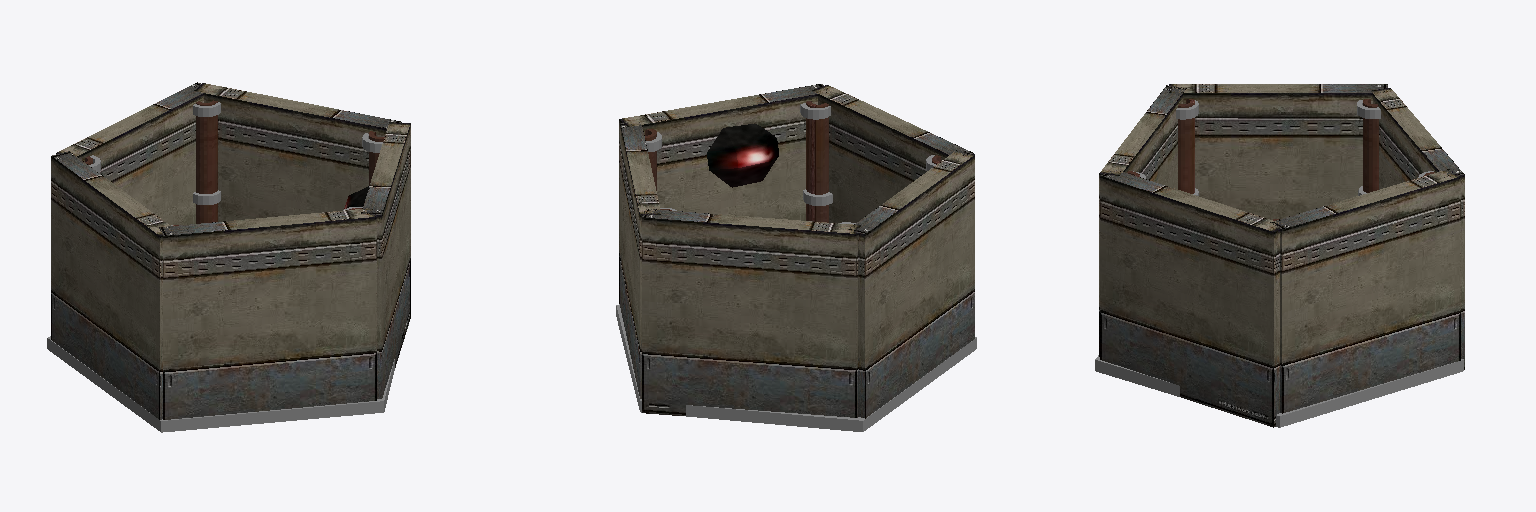
3 views of the same model, side by side, from view 1: azimuth 30°, elevation 25°; view 2: azimuth 150°, elevation 25°; view 3: azimuth 270°, elevation 25° (orthographic).
Parts seen in each view (by area): view 1: Box008, Box004, Box002, Box003, Box001, Gengon001, Tube001; view 2: Box003, Box004, Box001, Box008, Box002, Gengon001, ChamferBox001, Tube006; view 3: Box001, Box002, Box004, Box003, Box008, Gengon001, Tube005, Tube004.
Boxes of the visible parts, box(x1,y1,x2,y2) form: Box008: box(159, 208, 376, 419); Box004: box(51, 151, 174, 419); Box002: box(194, 83, 401, 221); Box003: box(56, 82, 208, 225); Box001: box(361, 122, 410, 398); Gengon001: box(47, 336, 394, 432); Tube001: box(196, 100, 217, 223); Box003: box(642, 209, 860, 417); Box004: box(848, 150, 974, 418); Box001: box(619, 84, 826, 303); Box008: box(812, 85, 973, 222); Box002: box(620, 122, 660, 398); Gengon001: box(616, 304, 976, 431); ChamferBox001: box(707, 124, 778, 187); Tube006: box(806, 101, 828, 222); Box001: box(1100, 170, 1283, 427); Box002: box(1270, 169, 1460, 413); Box004: box(1169, 84, 1387, 219); Box003: box(1371, 88, 1464, 369); Box008: box(1099, 85, 1186, 356); Gengon001: box(1095, 355, 1463, 427); Tube005: box(1178, 99, 1194, 193); Tube004: box(1363, 99, 1378, 192).
Size of the model in its own units: 126 by 77.35 by 132.
Materials: 7 (4 with a texture image).